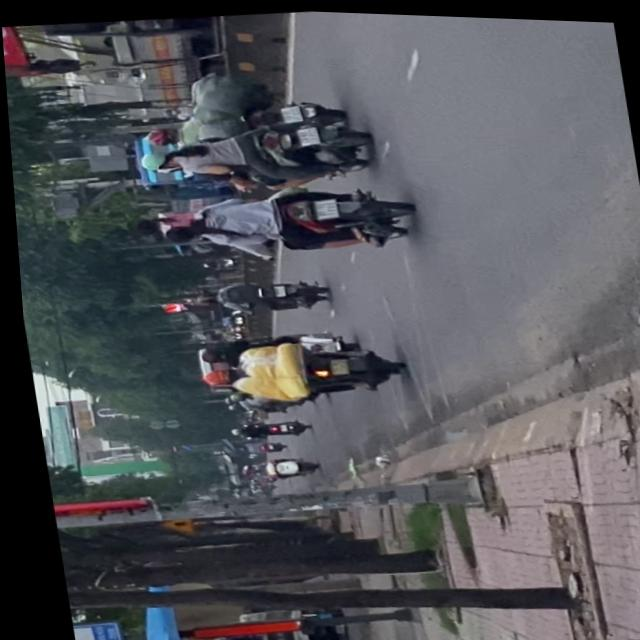helmet: (134, 147, 173, 171), (140, 123, 175, 146)
licenseplate: (145, 170, 416, 267), (129, 107, 376, 197)
motorcyclist: (156, 220, 198, 244)
nohelmet: (307, 196, 332, 216), (293, 123, 316, 143), (277, 102, 298, 120)
